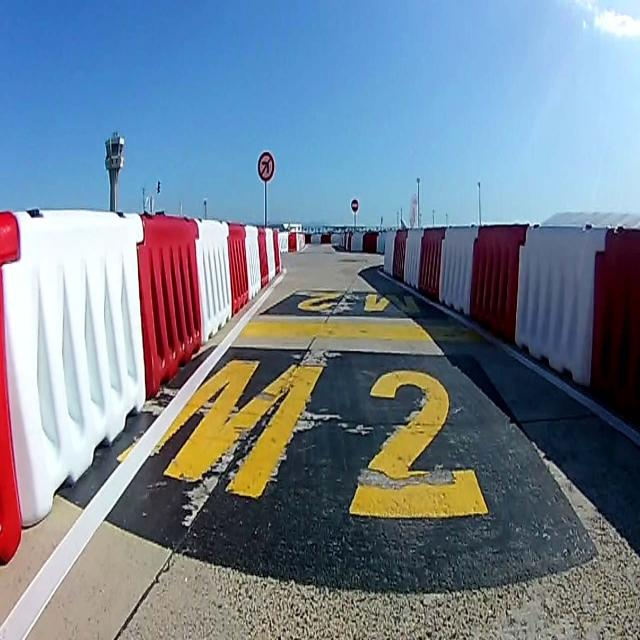girisyok: (350, 198, 359, 212)
soladonulmez: (257, 151, 274, 181)
